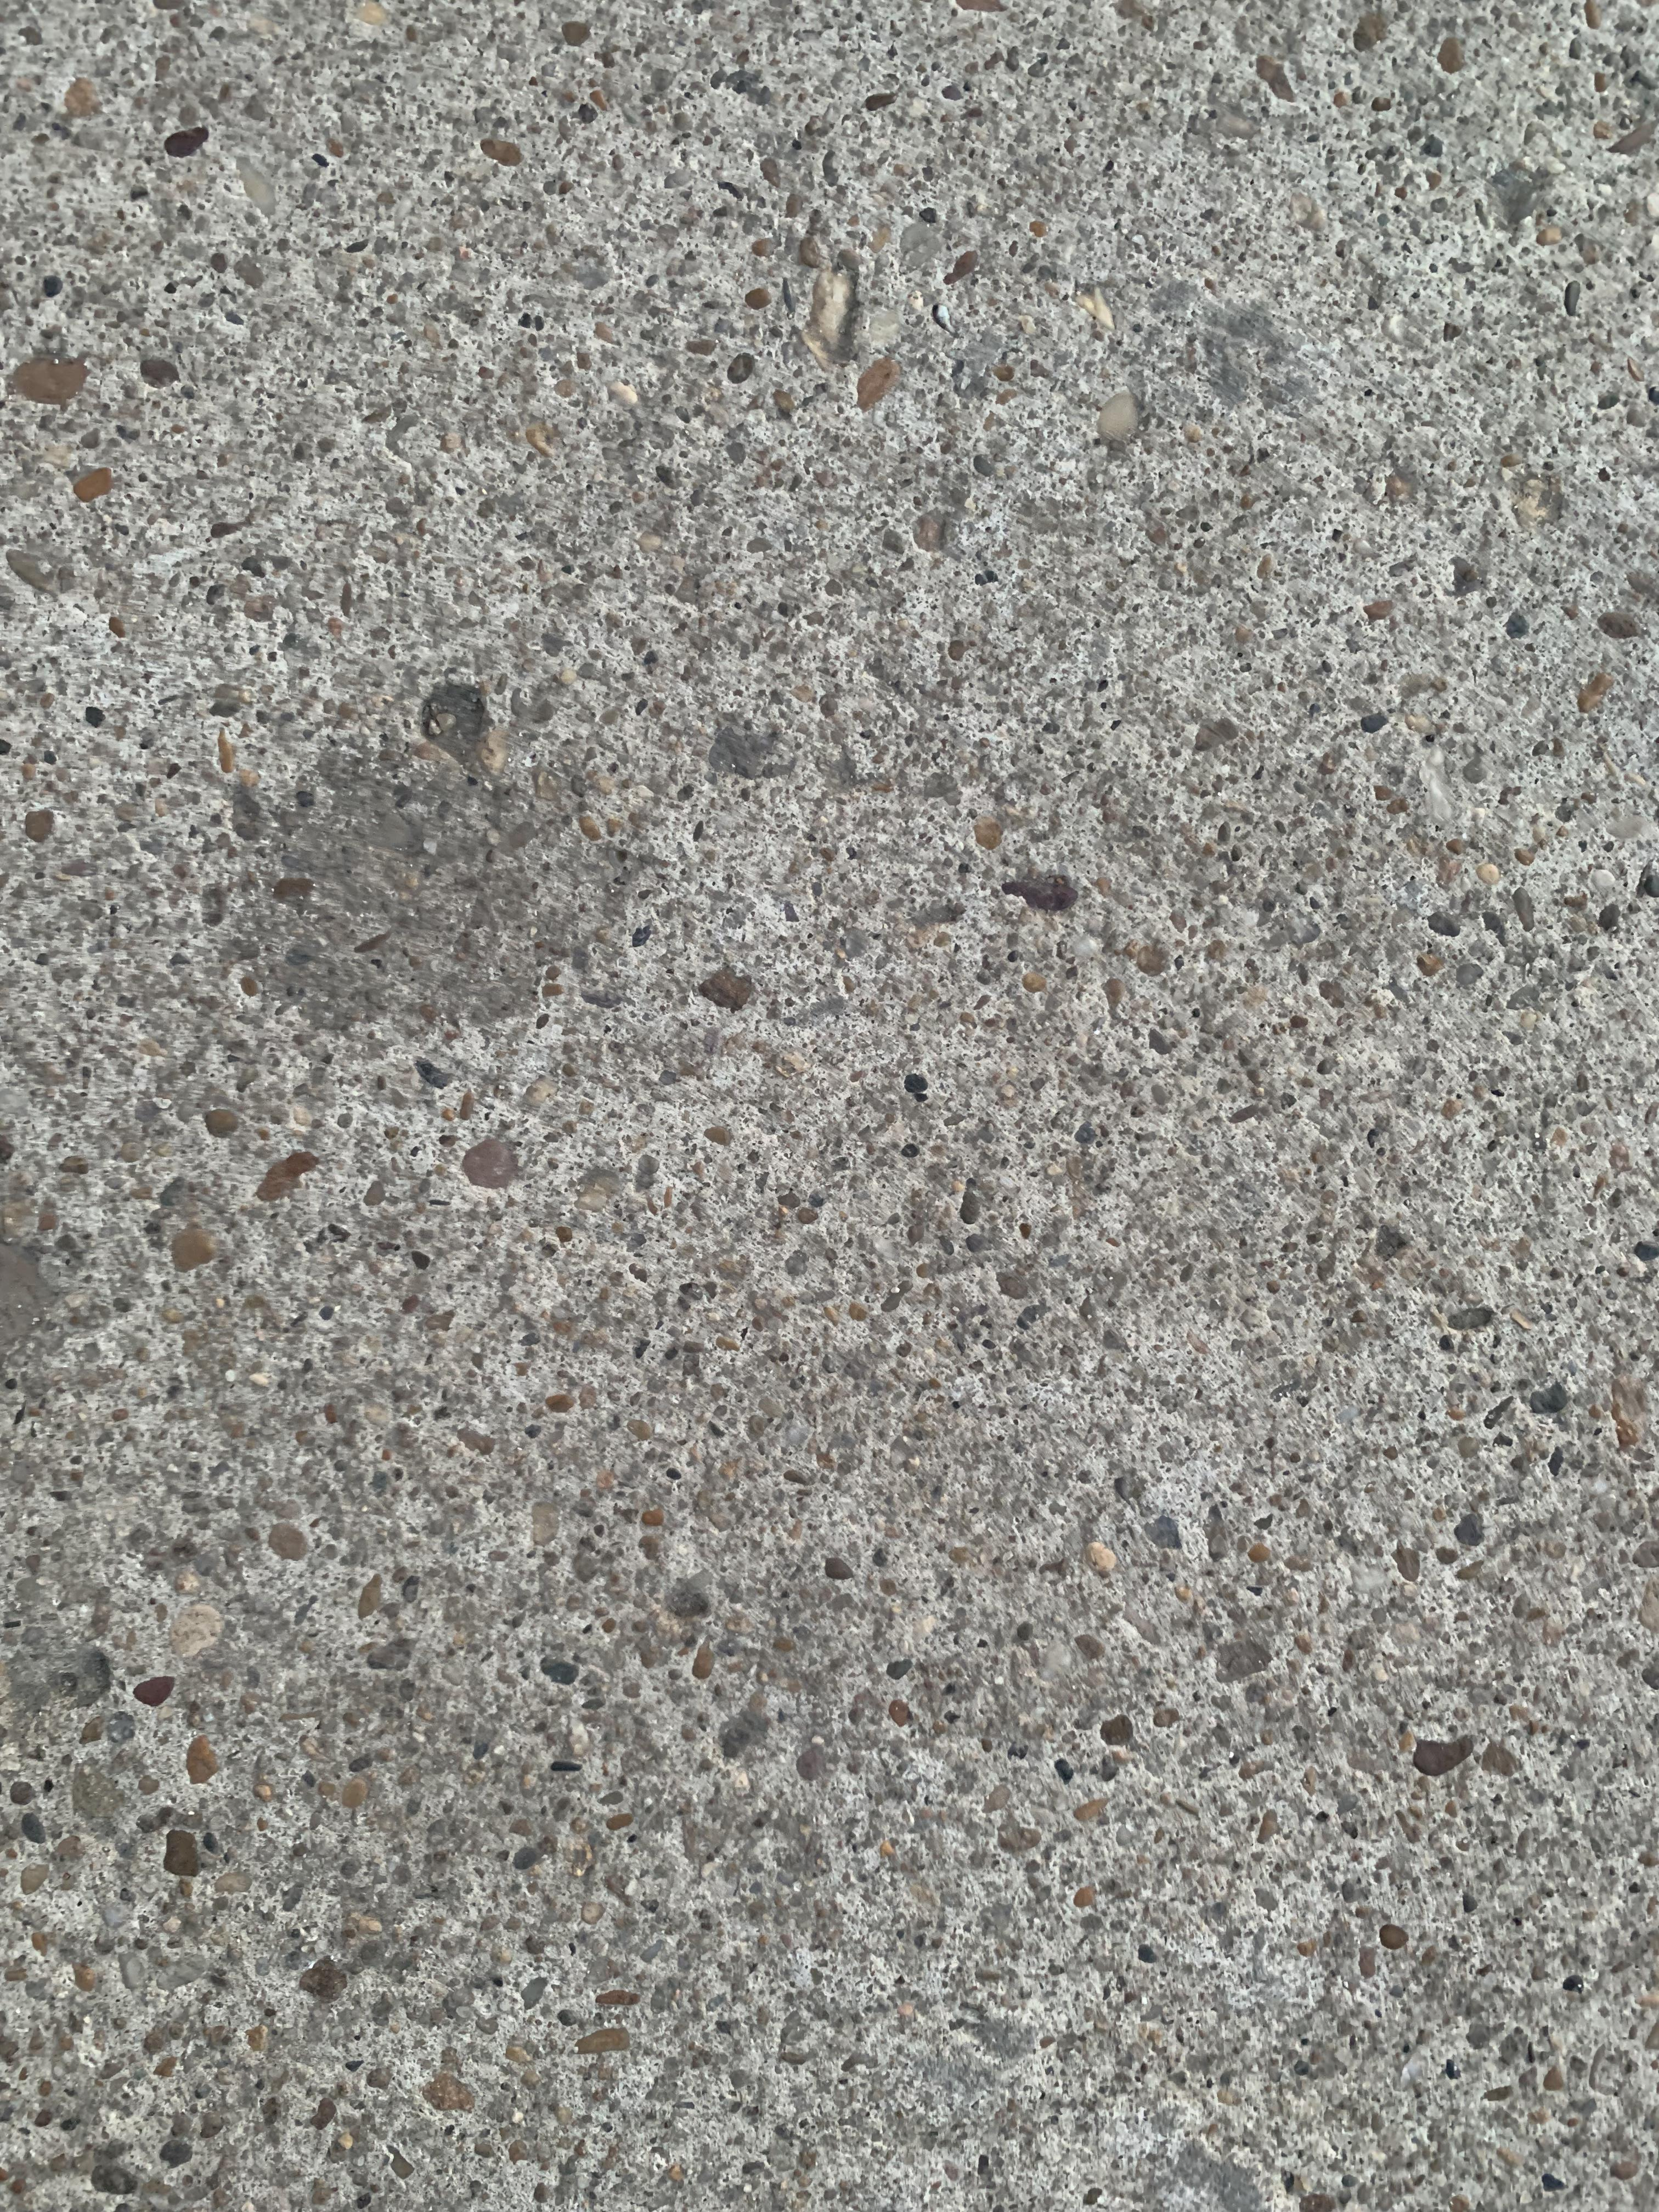grey spot: (228, 744, 629, 1017)
